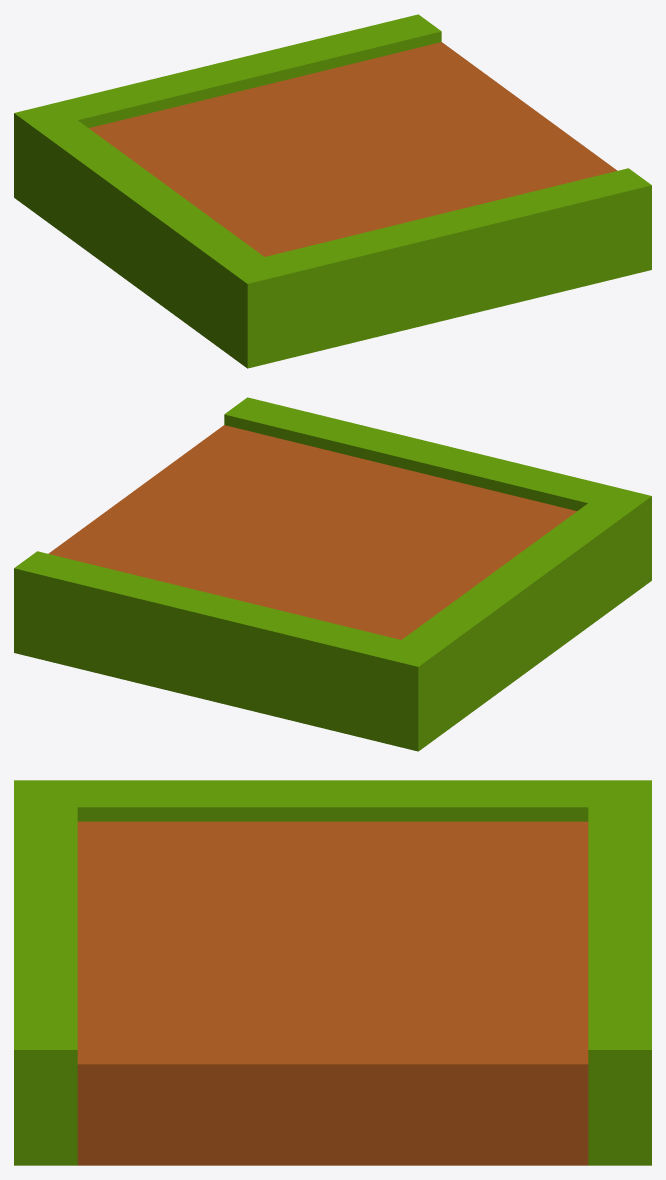
Rendered from TileGround_08.fbx.
3 renders of one model, top to bottom at view 1: azimuth 30°, elevation 25°; view 2: azimuth 150°, elevation 25°; view 3: azimuth 270°, elevation 25°, orthographic. The views are drawn at different scales.
Visible parts, largest first — view 1: TileGround_08; view 2: TileGround_08; view 3: TileGround_08.
Part boxes in pixels (box(x1,y1,x2,y2)): TileGround_08: box(14, 14, 651, 368); TileGround_08: box(14, 397, 651, 751); TileGround_08: box(14, 780, 651, 1165).
Bounding box in the file's own units: 500 × 100 × 500.
